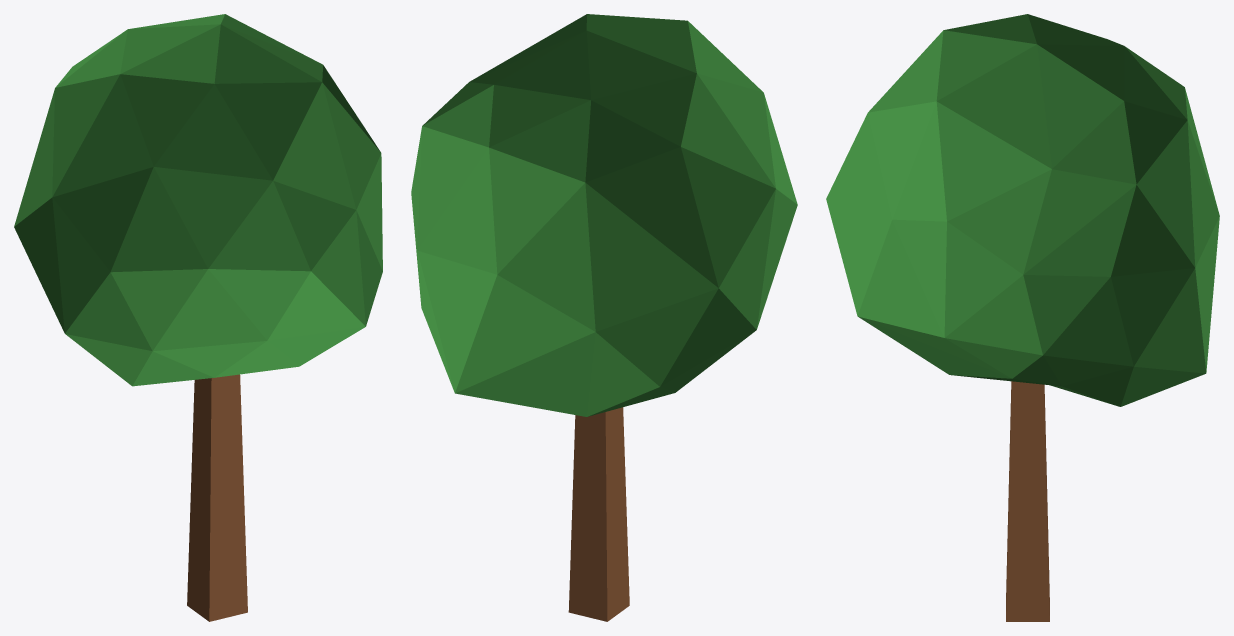
Rendered from tree_03.fbx.
3 views of the same model, side by side, from view 1: azimuth 30°, elevation 25°; view 2: azimuth 150°, elevation 25°; view 3: azimuth 270°, elevation 25° (orthographic).
Visible parts, largest first — view 1: tree_03; view 2: tree_03; view 3: tree_03.
Part boxes in pixels (x1,y1,x2,y2): tree_03: (14,14,382,621); tree_03: (411,14,797,621); tree_03: (826,14,1219,621).
Size of the model in its own units: 198 by 340 by 212.
1 material, 1 textured.
